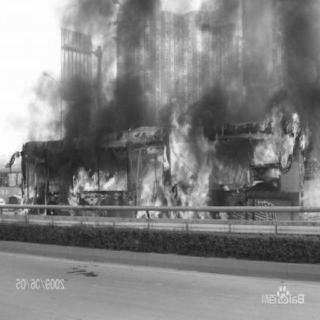Fire: (8, 103, 312, 217)
